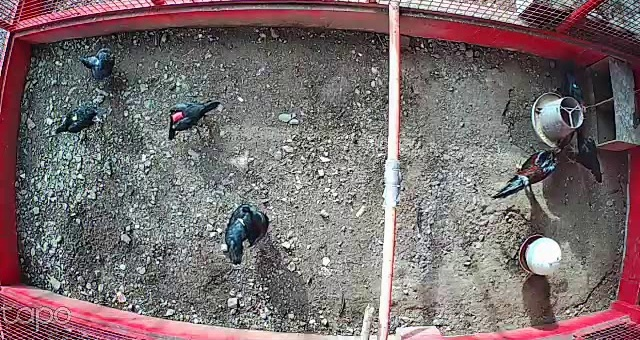Chicken: (222, 196, 275, 264), (561, 129, 606, 185), (167, 97, 223, 141), (546, 59, 589, 114), (54, 100, 104, 136), (79, 47, 119, 82)
Rooster: (491, 143, 564, 202)
Saddle_Color_Red: (171, 110, 184, 121)
Saddle_Color_Yellow: (71, 112, 79, 125)
